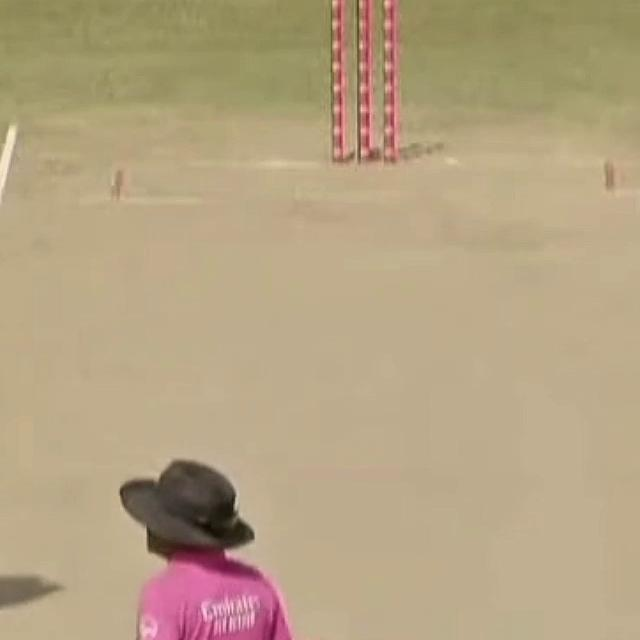umpire: (84, 455, 426, 640), (80, 435, 373, 640)
